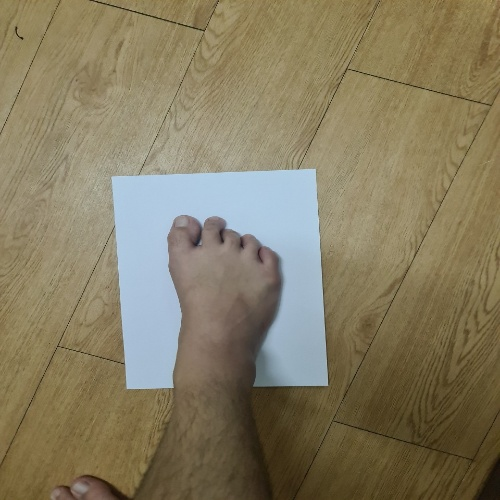Top_Foot: (91, 151, 363, 402)
